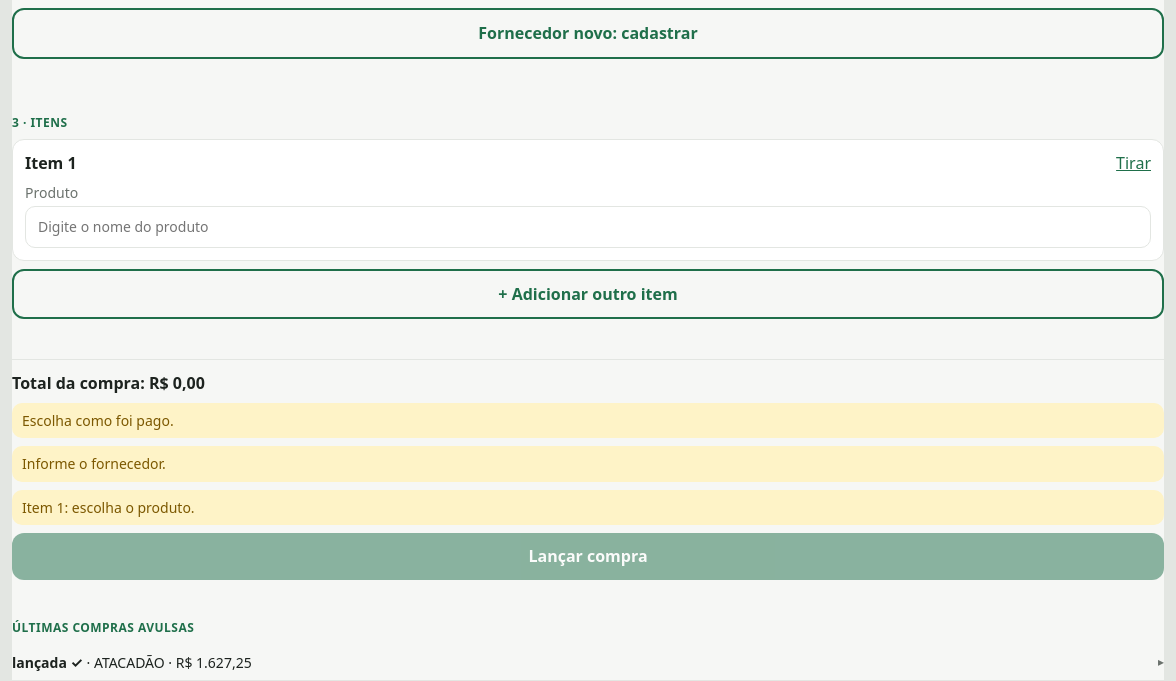
it: CompraAvulsa › o detalhe mostra o nome guardado na compra quando o produto não está na lista do app (nunca só o código)
(page scrolled)
Click the button "lançada ✓ · ATACADÃO · R$ 1.627,25 ▸" at (47, 662), box x1=12 y1=645 x2=1164 y2=680
(page scrolled)
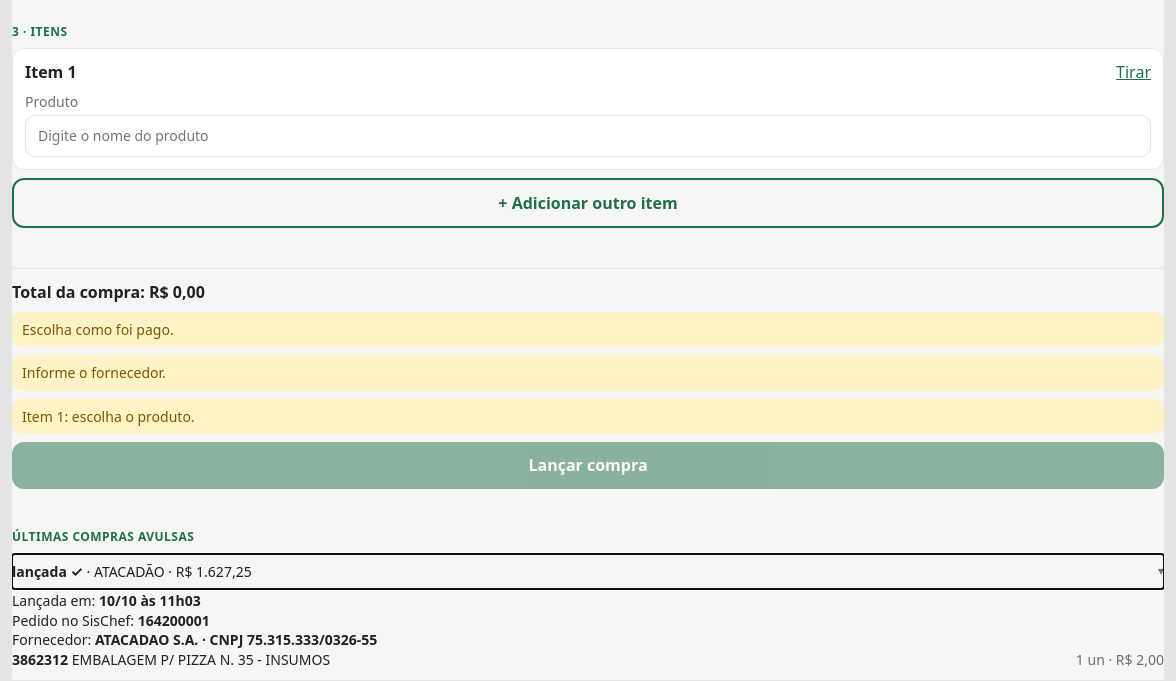
Check: the list item with test id "compra-recente" does not show "Produto 3862312", box x1=12 y1=554 x2=1164 y2=680
Check: the list item with test id "compra-recente" shows "EMBALAGEM P/ PIZZA N. 35 - INSUMOS", box x1=72 y1=650 x2=330 y2=669
